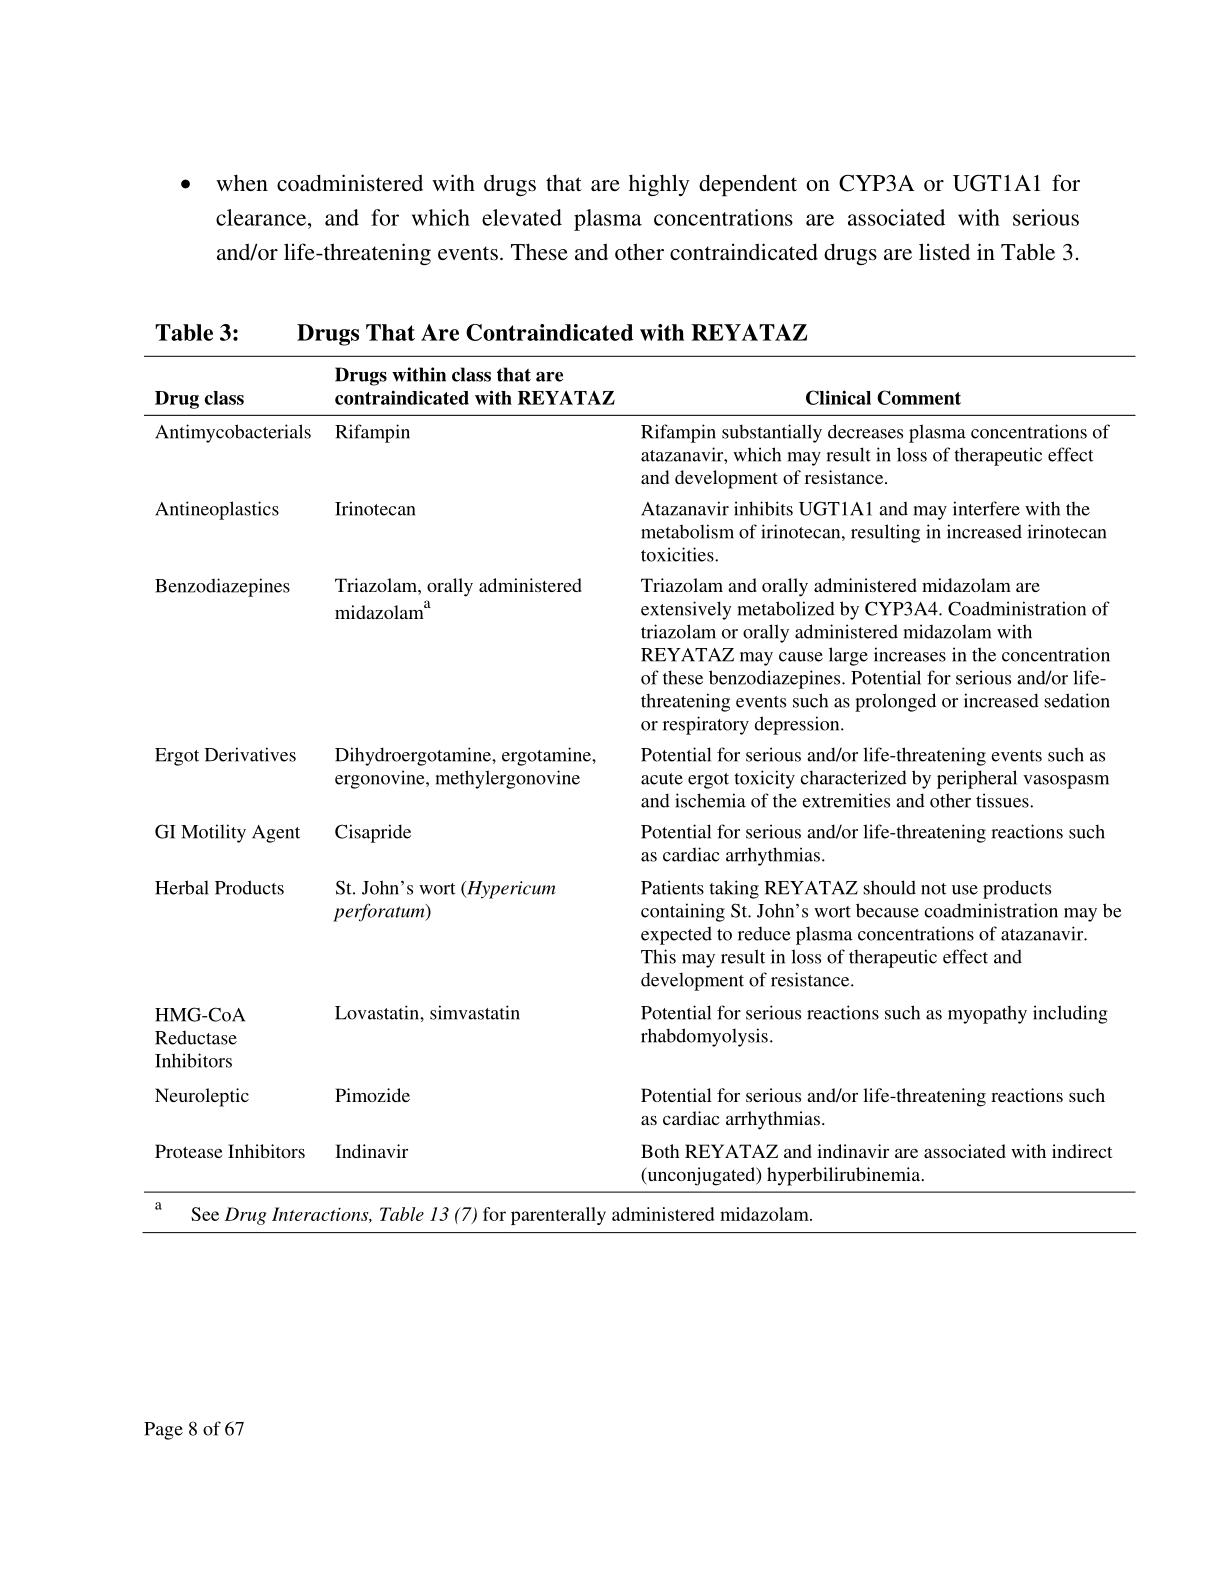partial_lined: (141, 354, 1138, 1196)
